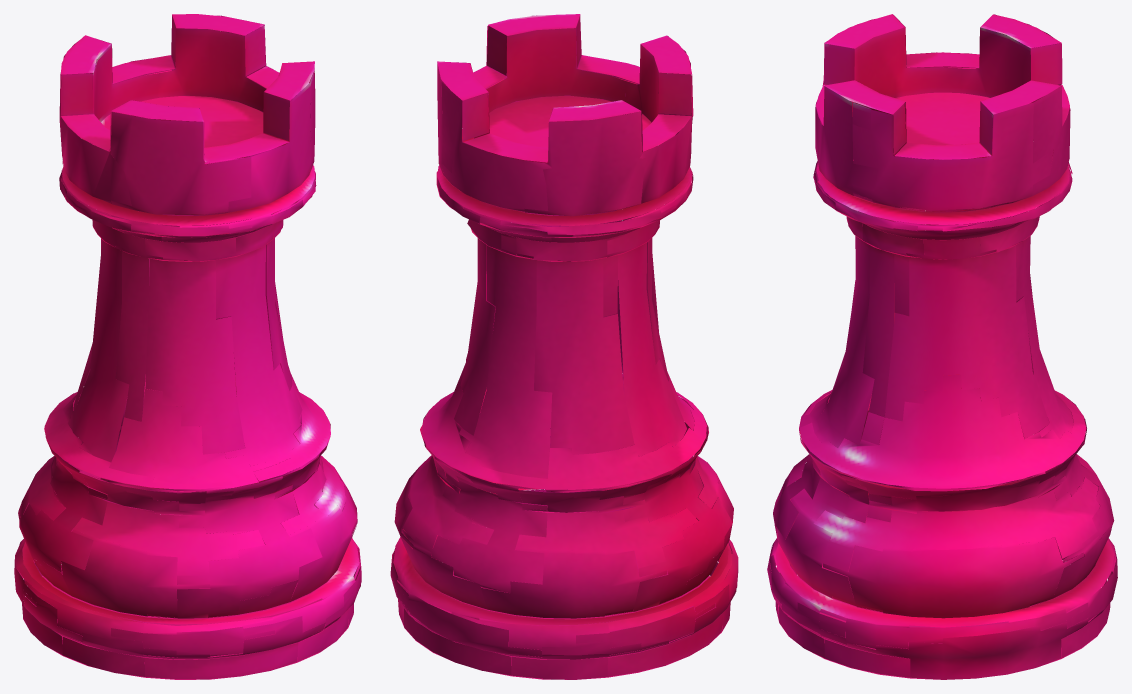
File: rook.glb
3 views of the same model, side by side, from view 1: azimuth 30°, elevation 25°; view 2: azimuth 150°, elevation 25°; view 3: azimuth 270°, elevation 25° (orthographic).
Visible parts, largest first — view 1: Object001.001; view 2: Object001.001; view 3: Object001.001.
Boxes of the visible parts, left/top/right/bottom form: Object001.001: left=14, top=14, right=361, bottom=679; Object001.001: left=390, top=14, right=738, bottom=679; Object001.001: left=767, top=14, right=1117, bottom=679.
Bounding box in the file's own units: 3.95 × 6.77 × 3.94.
1 material, 1 textured.
